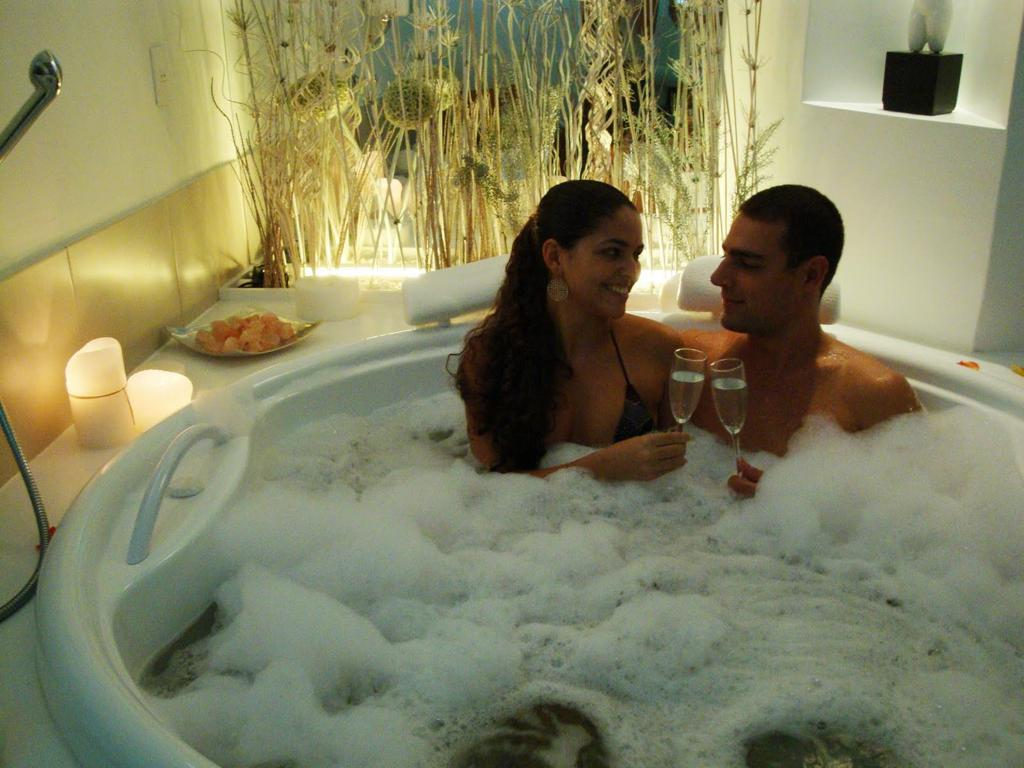face: (564, 216, 644, 318), (710, 234, 788, 328)
